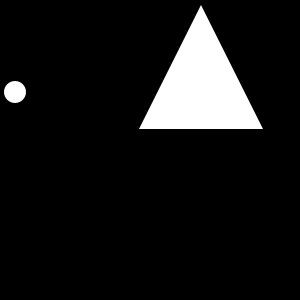rectangle: (4, 81, 26, 103)
triangle: (139, 5, 263, 129)
